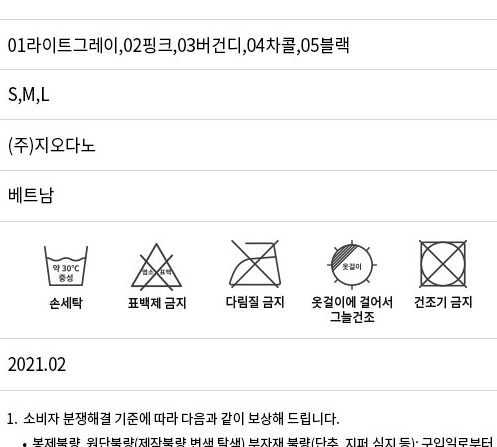KR_hand_wash_30_neutral: (37, 237, 98, 294)
KR_hang_dry_in_shade: (320, 237, 385, 291)
KR_no_chlorine_bleach: (121, 237, 188, 294)
KR_no_iron: (222, 234, 286, 292)
KR_no_tumble_dry: (411, 236, 474, 292)
